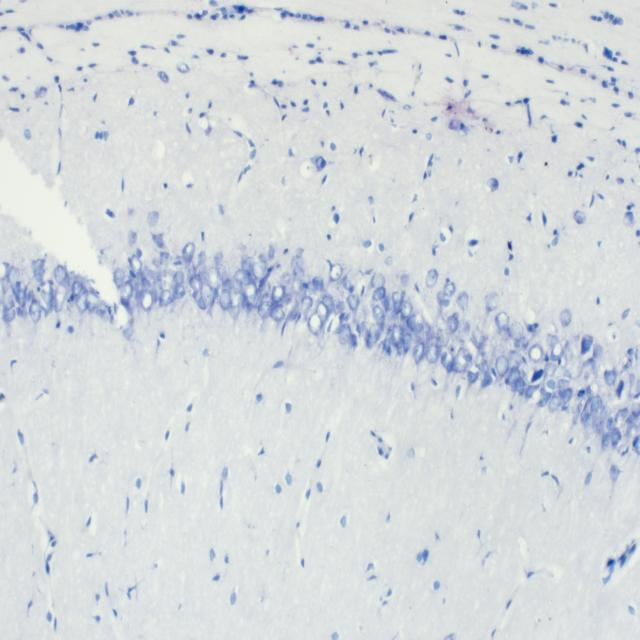neuron: (366, 322, 384, 348), (53, 282, 67, 312), (454, 348, 471, 372), (243, 282, 258, 308), (205, 266, 221, 290), (258, 292, 272, 318), (406, 313, 425, 332), (307, 313, 323, 335), (200, 282, 214, 307), (233, 268, 252, 286), (40, 280, 53, 306), (120, 279, 133, 305), (139, 289, 154, 311), (86, 291, 100, 314), (252, 260, 268, 280), (76, 288, 89, 312), (412, 341, 425, 365), (440, 351, 454, 373), (485, 290, 499, 312), (580, 333, 594, 355), (149, 231, 166, 249), (528, 343, 544, 362), (228, 294, 240, 319), (509, 321, 524, 341), (151, 278, 164, 301), (314, 302, 328, 323), (495, 355, 509, 376), (508, 350, 522, 371), (29, 300, 42, 322), (338, 323, 351, 345), (614, 407, 628, 427), (300, 295, 313, 316), (391, 324, 404, 345), (426, 343, 439, 364), (472, 327, 485, 348), (539, 387, 552, 408), (322, 294, 336, 313), (495, 312, 509, 331), (220, 289, 232, 311), (392, 292, 404, 314), (182, 242, 195, 262), (291, 254, 304, 274), (372, 305, 385, 325), (559, 308, 572, 328), (505, 369, 521, 385), (524, 382, 540, 398), (54, 265, 68, 283), (130, 253, 142, 274), (189, 274, 203, 292), (346, 293, 360, 311), (159, 289, 172, 308), (386, 340, 399, 359), (456, 292, 469, 311), (550, 342, 563, 361), (270, 307, 285, 323), (426, 268, 438, 288), (272, 285, 286, 302), (437, 291, 451, 308), (330, 262, 342, 281), (173, 255, 188, 270), (402, 332, 412, 354), (515, 376, 526, 396), (8, 266, 20, 284), (147, 210, 159, 228), (447, 315, 459, 333), (159, 251, 173, 266), (371, 273, 385, 288), (586, 382, 600, 397), (114, 268, 125, 287), (241, 256, 254, 272), (548, 396, 561, 412), (626, 424, 639, 440), (32, 258, 44, 275), (215, 263, 227, 280), (401, 302, 413, 319), (590, 395, 602, 412), (436, 332, 449, 347), (544, 362, 557, 377), (231, 278, 243, 294), (458, 321, 470, 337), (546, 332, 558, 348), (561, 387, 573, 403), (604, 369, 616, 385), (313, 275, 324, 292), (413, 323, 424, 340), (172, 285, 185, 299), (373, 287, 386, 301), (610, 463, 620, 481), (592, 343, 603, 359), (17, 289, 26, 308), (611, 427, 620, 446), (72, 280, 82, 297), (3, 308, 16, 321), (1, 298, 15, 310), (173, 271, 185, 285), (556, 378, 570, 390), (444, 282, 455, 297), (600, 432, 611, 447), (127, 230, 137, 246), (197, 250, 207, 266), (334, 300, 344, 316), (622, 355, 634, 368), (34, 268, 45, 282), (630, 402, 640, 417), (280, 271, 291, 284), (188, 263, 196, 279), (141, 277, 151, 289), (198, 296, 206, 310), (520, 336, 528, 350), (565, 348, 573, 362), (546, 379, 556, 390), (284, 292, 292, 305), (221, 277, 231, 287), (343, 280, 352, 291), (628, 372, 635, 386), (211, 288, 219, 300), (385, 256, 393, 266)
